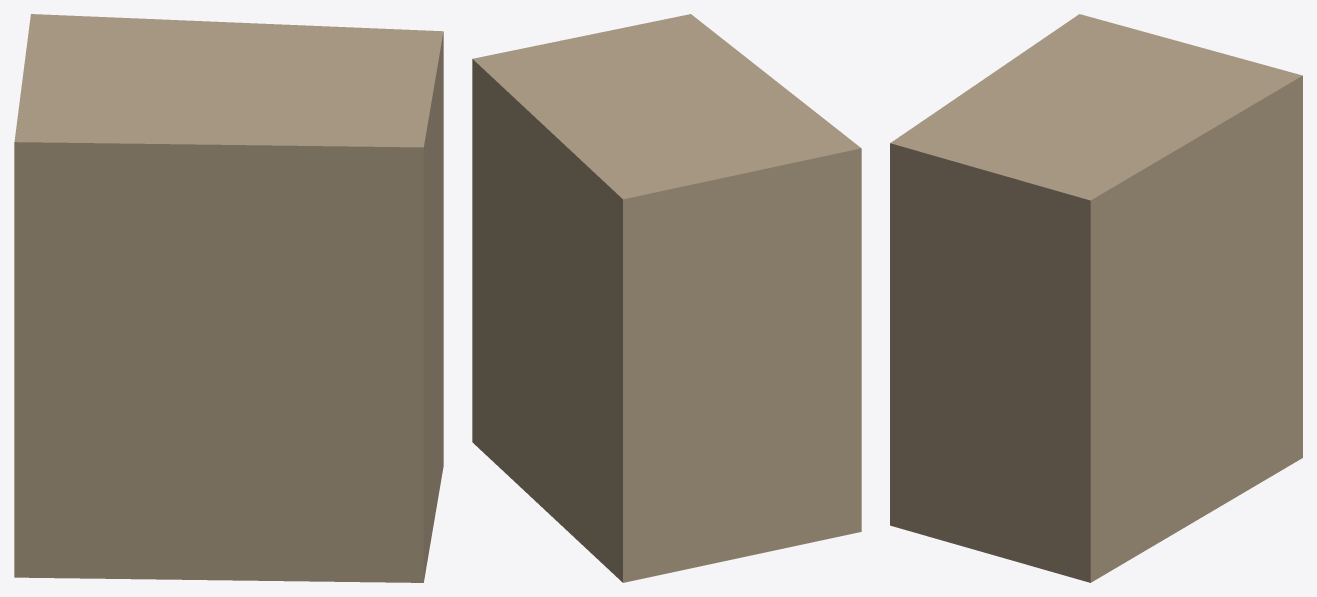
Rendered from bld_99615920.dae.
3 renders of one model, left to right at view 1: azimuth 30°, elevation 25°; view 2: azimuth 150°, elevation 25°; view 3: azimuth 270°, elevation 25°, orthographic. The views are drawn at different scales.
Visible parts, largest first — view 1: bld_99615920; view 2: bld_99615920; view 3: bld_99615920.
Part boxes in pixels (x1,y1,x2,y2): bld_99615920: (14,14,443,582); bld_99615920: (472,14,861,582); bld_99615920: (890,14,1302,582).
Size of the model in its own units: 8.37 by 7.82 by 8.
